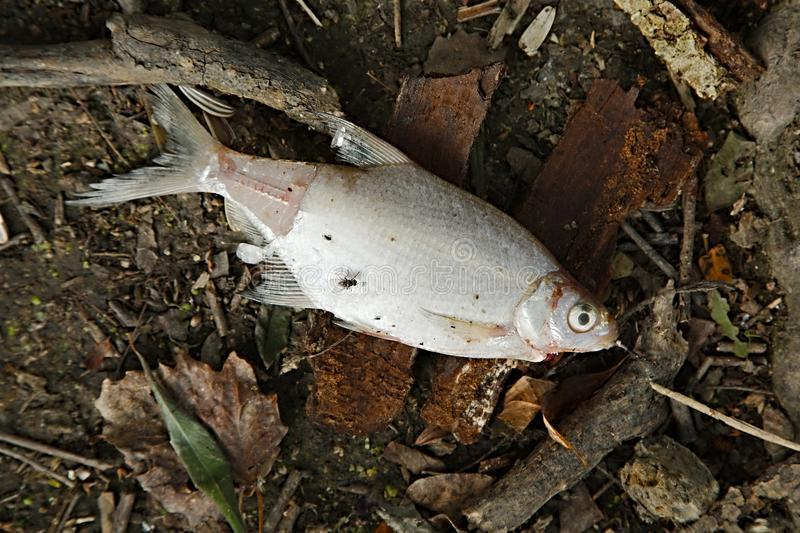Fish: (66, 75, 620, 388)
